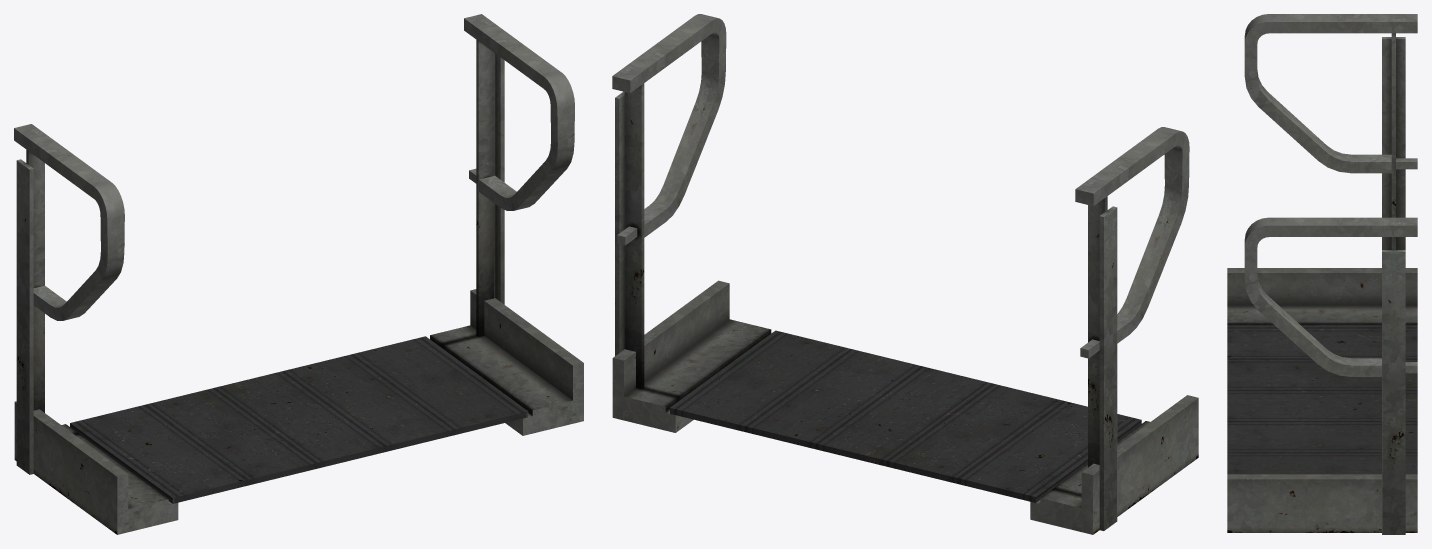
The model's file is hanging_walkway_32b_lowres.glb.
The picture shows the model from 3 angles, left to right: view 1: azimuth 30°, elevation 25°; view 2: azimuth 150°, elevation 25°; view 3: azimuth 270°, elevation 25°; orthographic projection. The views are drawn at different scales.
Visible parts, largest first — view 1: hanging_walkway_32b_lowres; view 2: hanging_walkway_32b_lowres; view 3: hanging_walkway_32b_lowres.
Part boxes in pixels (x1,y1,x2,y2): hanging_walkway_32b_lowres: [14, 14, 583, 534]; hanging_walkway_32b_lowres: [612, 14, 1198, 534]; hanging_walkway_32b_lowres: [1227, 14, 1417, 534].
Bounding box in the file's own units: 1.63 × 1.09 × 0.6096.
1 material, 1 textured.
